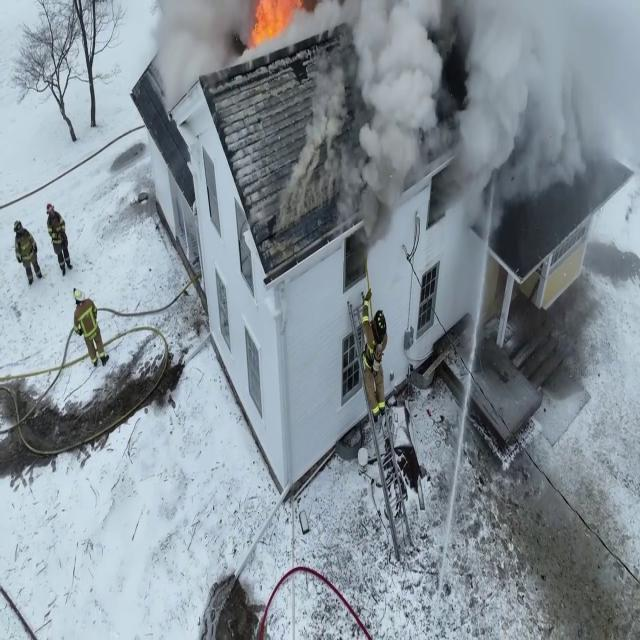Fire: (246, 0, 302, 53)
Smoke: (302, 0, 640, 246)
